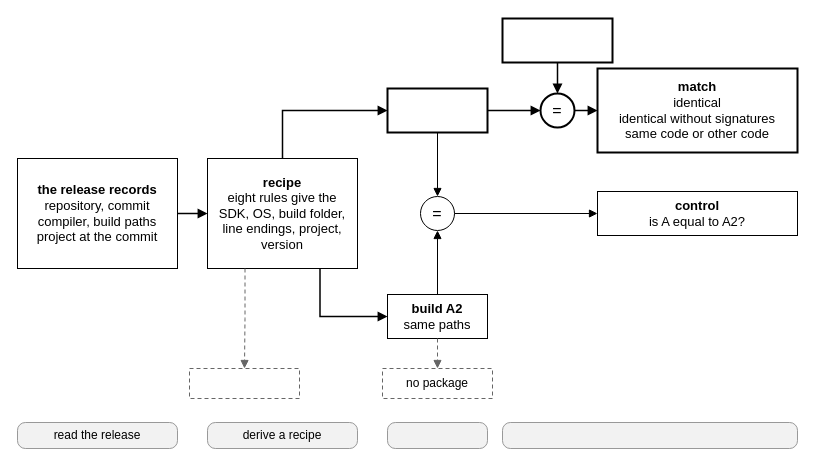
Image size: 816x466. Some labels were removed from this diagram. Here are the shapes that lost their labels. From the top down, the centre of each, then its label:
the point at 557,40: published DLL from nuget.org
the point at 437,110: build A
the point at 244,383: no recipe
the point at 437,435: build twice
the point at 650,435: compare the DLL WS.PEMS ships
